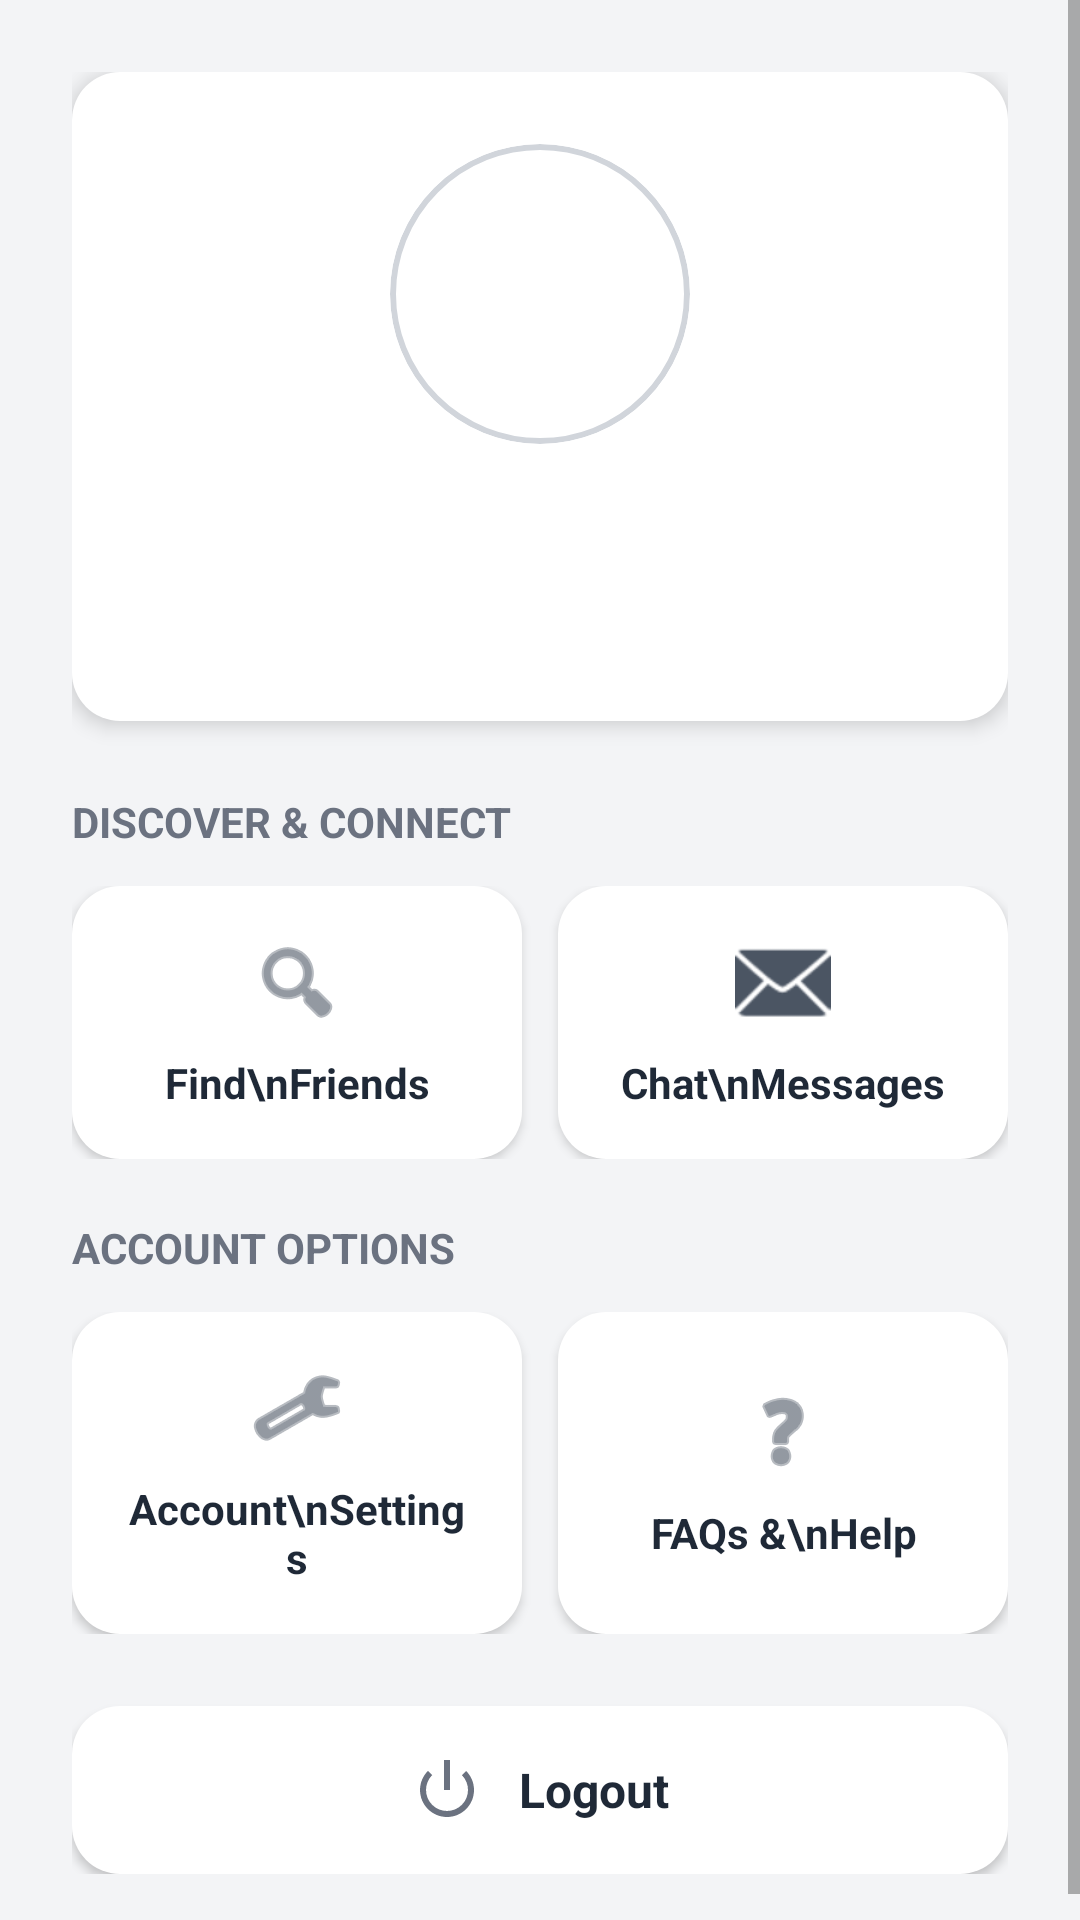

Locate icon controls on the screen. Image size 1080px×1920px, boxes as (x1, y1, x2, y2).
email: (735, 949, 831, 1017)
lock power off: (420, 1760, 474, 1817)
preferences: (254, 1375, 340, 1441)
search: (262, 947, 332, 1018)
